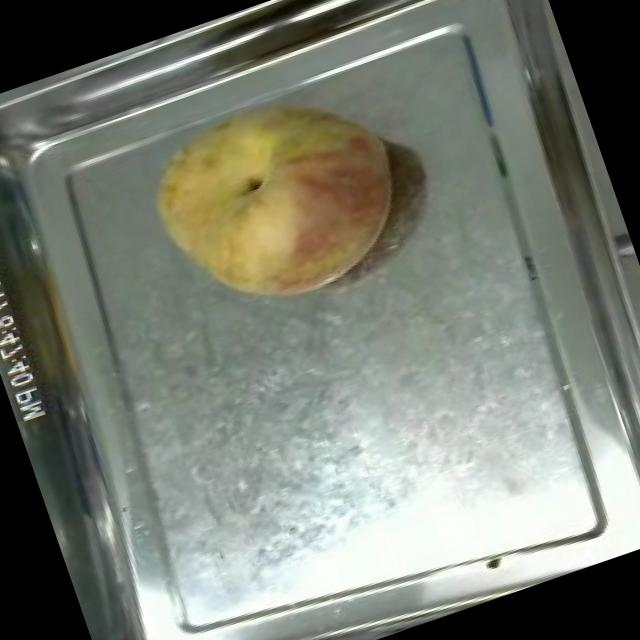Fruit: (120, 52, 433, 341)
